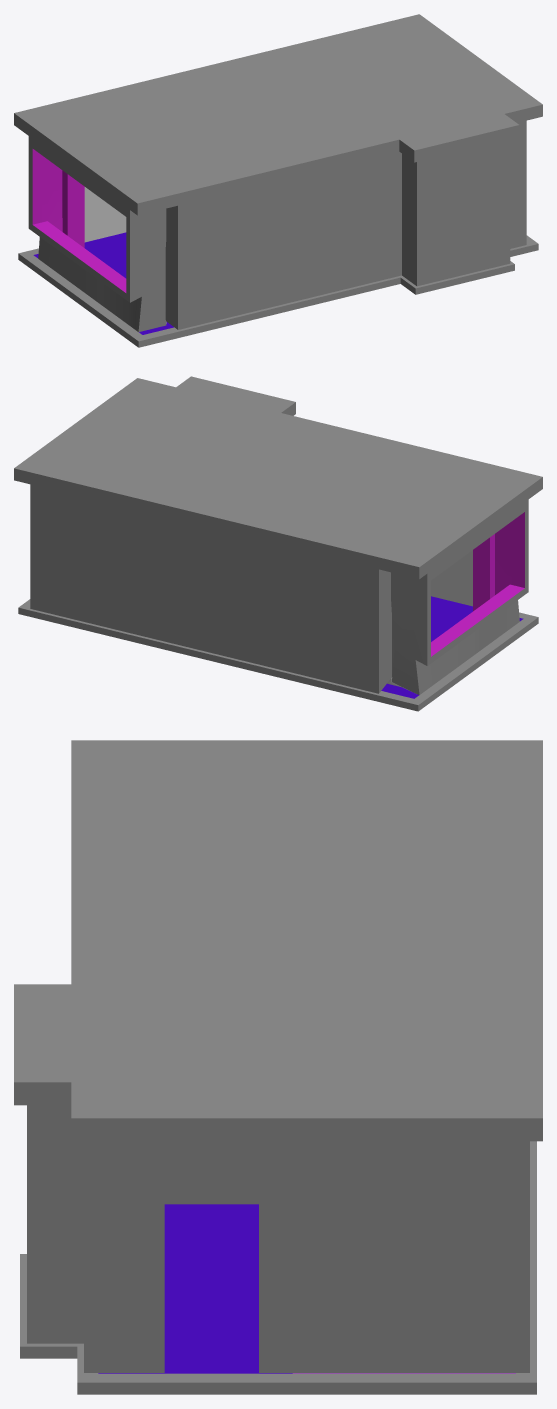
The model's file is Room.fbx.
3 views of the same model, one above another, from view 1: azimuth 30°, elevation 25°; view 2: azimuth 150°, elevation 25°; view 3: azimuth 270°, elevation 25° (orthographic). The views are drawn at different scales.
Visible parts, largest first — view 1: SM_Walls; view 2: SM_Walls; view 3: SM_Walls.
Boxes of the visible parts, <box> form: SM_Walls: <box>14,14,542,347</box>; SM_Walls: <box>14,376,542,711</box>; SM_Walls: <box>14,740,542,1394</box>.
Bounding box in the file's own units: 997 × 343 × 590.
